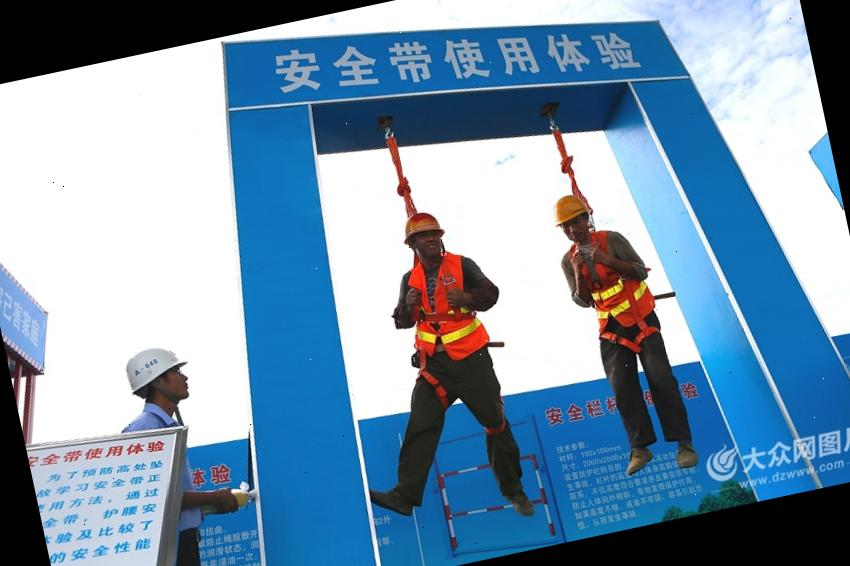helmet: (120, 340, 191, 396), (548, 189, 598, 228), (398, 208, 448, 244)
wear: (556, 228, 656, 351), (398, 253, 491, 370)
